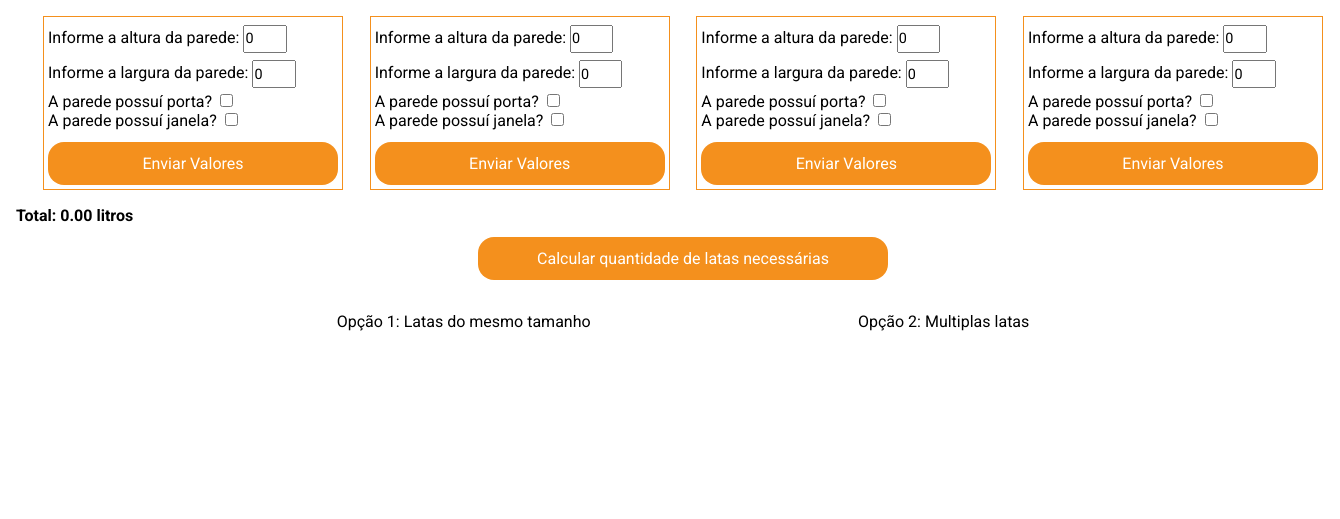
Test: calcula o total de latas necessárias › se preenchido corretamente as opções aparecem
This screenshot has width=1340, height=519.
Type "3" into the number field labelled "Informe a altura da parede:" at (265, 39), box top-left (243, 25), bottom-right (287, 53)
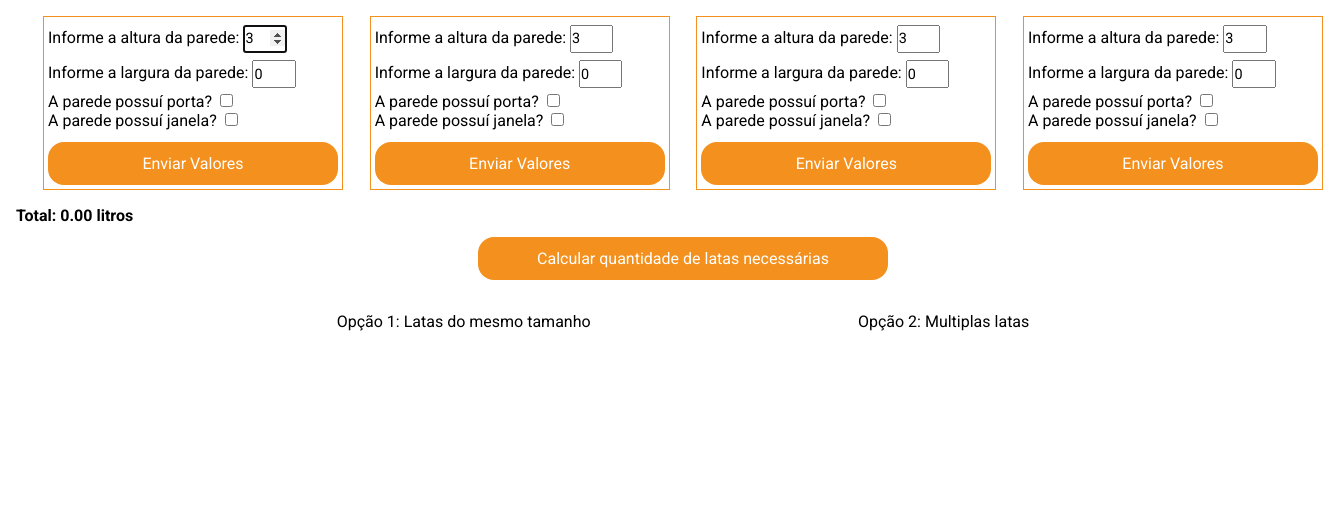
Type "5" into the number field labelled "Informe a largura da parede:" at (274, 74), box top-left (252, 60), bottom-right (296, 88)
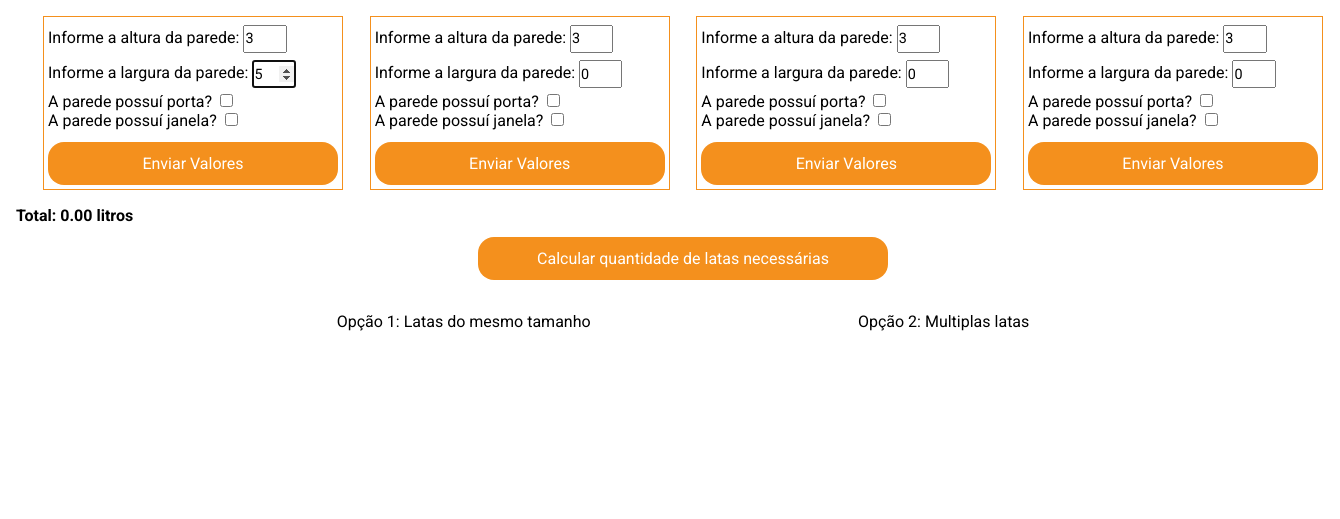
Click the 1st button "Enviar Valores" at (193, 163), box top-left (48, 142), bottom-right (338, 185)
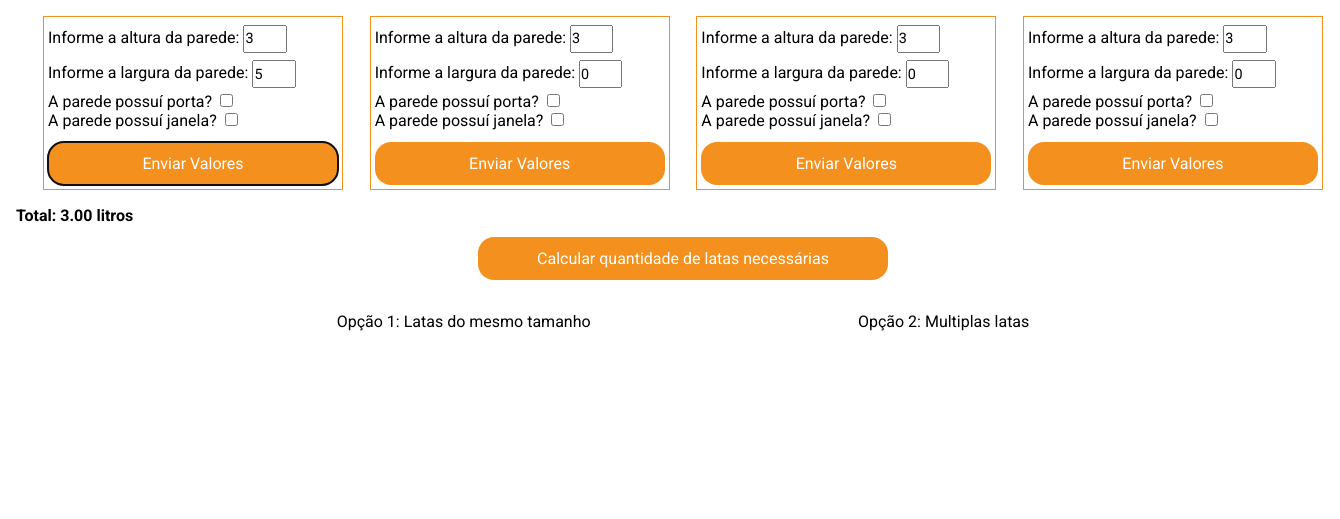
Click the button "Calcular quantidade de latas necessárias" at (683, 258), box top-left (478, 237), bottom-right (888, 280)
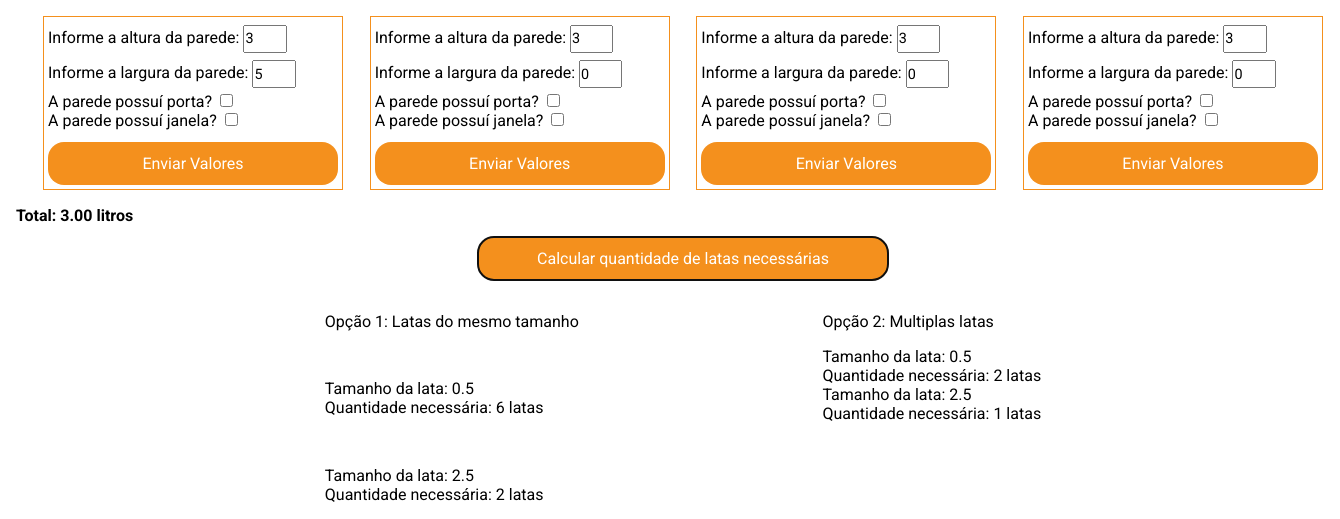
Now the text "Tamanho da lata: 0.5" is shown 4 times, box top-left (325, 379), bottom-right (474, 398); top-left (325, 466), bottom-right (474, 485); top-left (822, 347), bottom-right (972, 366); top-left (822, 385), bottom-right (972, 404)
Now the text "Tamanho da lata: 0.5" below "Opção 1: Latas do mesmo tamanho" is shown, box top-left (325, 379), bottom-right (452, 398)
